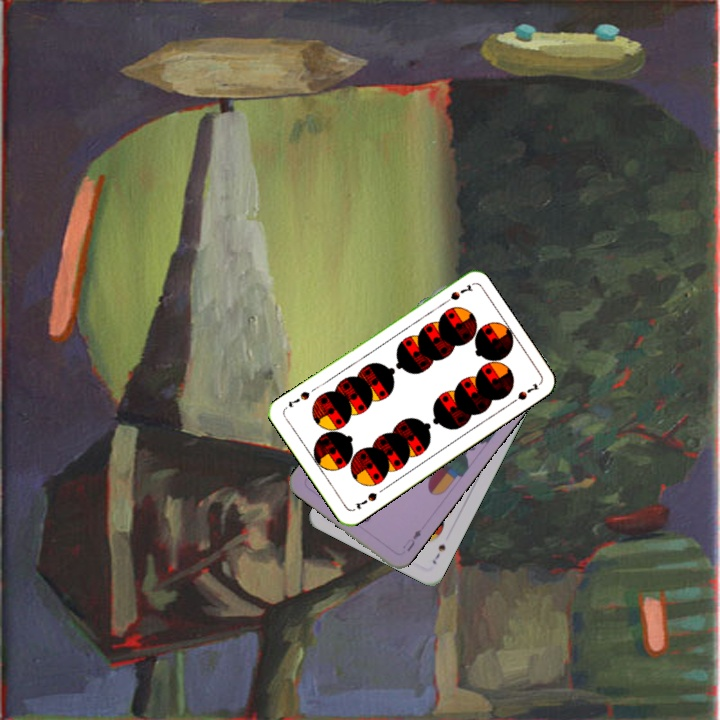EU: (398, 525, 424, 554)
S7: (438, 280, 475, 308), (350, 488, 380, 512), (428, 540, 448, 567)
